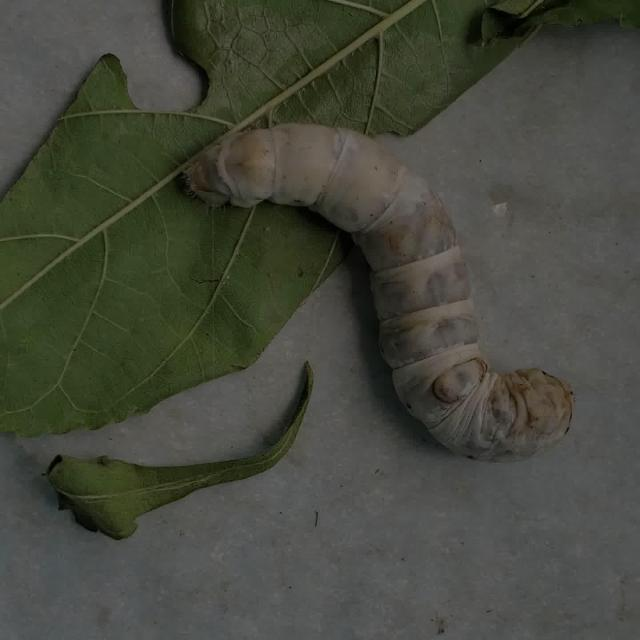Grasserie: (152, 65, 588, 495)
